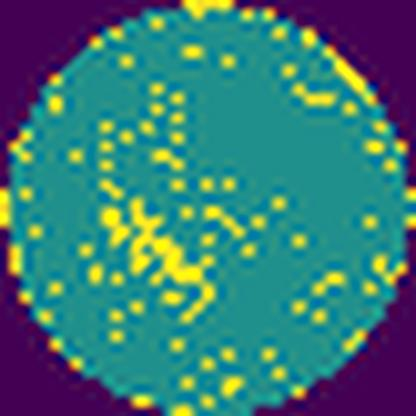Loc: (129, 197, 219, 327), (100, 202, 128, 246)
